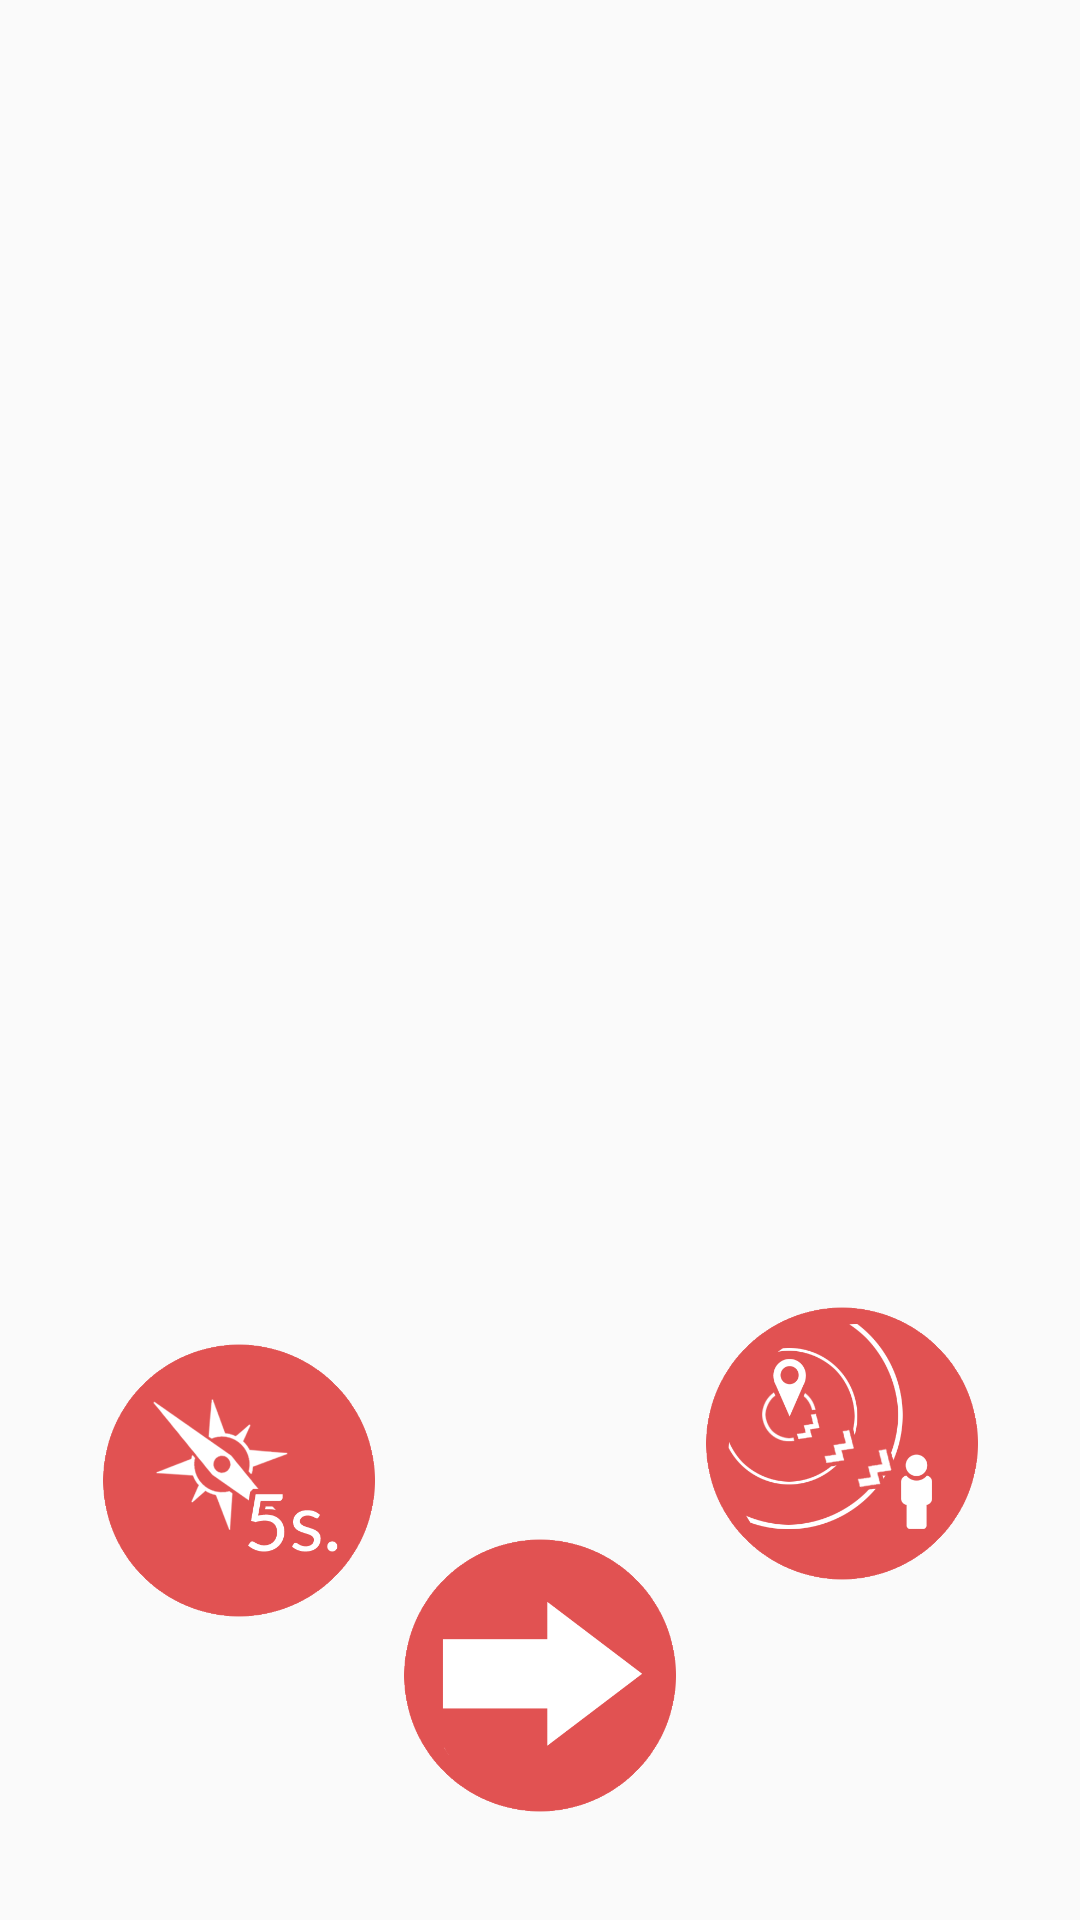

Locate icon controls on the screen. Image size 1080w x 1920h, boxes as {"x1": x1, "y1": y1, "x2": x2, "y2": y2}.
compass: {"x1": 103, "y1": 1344, "x2": 375, "y2": 1617}
pil: {"x1": 404, "y1": 1539, "x2": 676, "y2": 1812}
